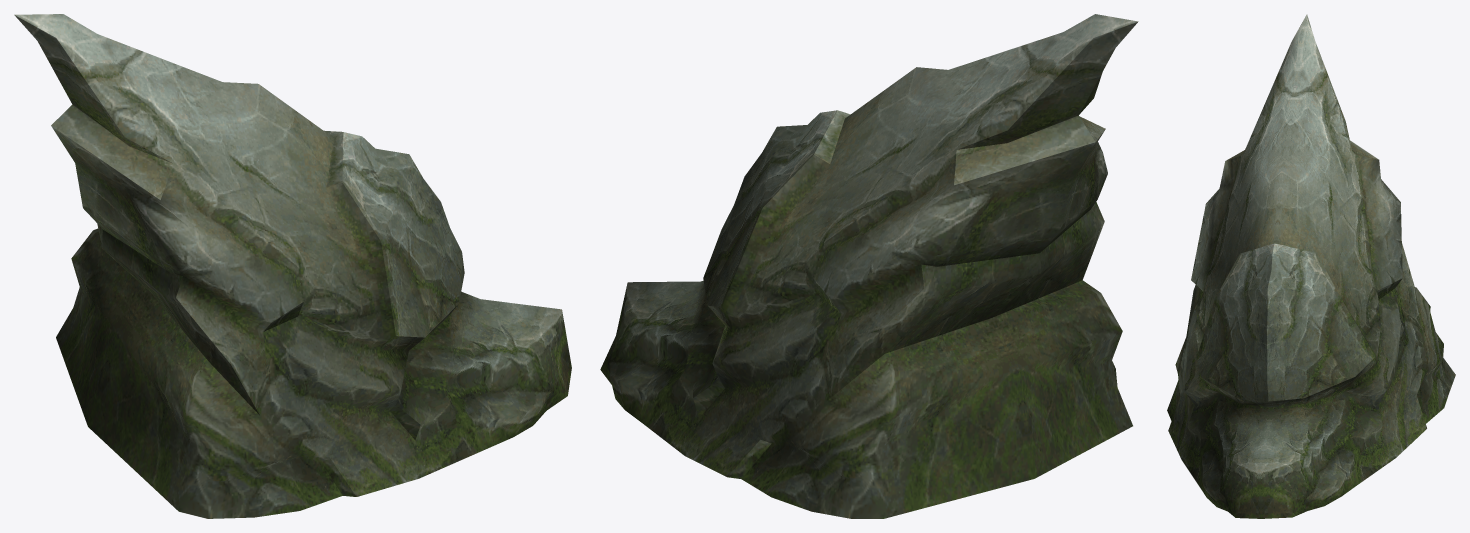
Rendered from 3004_Item_shitou_4.FBX.
3 renders of one model, left to right at view 1: azimuth 30°, elevation 25°; view 2: azimuth 150°, elevation 25°; view 3: azimuth 270°, elevation 25°, orthographic. The views are drawn at different scales.
Parts seen in each view (by area): view 1: 3004_Item_shitou_4; view 2: 3004_Item_shitou_4; view 3: 3004_Item_shitou_4.
Part boxes in pixels (bbox=[...]): 3004_Item_shitou_4: bbox=[14, 14, 571, 518]; 3004_Item_shitou_4: bbox=[600, 14, 1138, 518]; 3004_Item_shitou_4: bbox=[1167, 14, 1455, 518].
Bounding box in the file's own units: 389 × 336 × 262.
